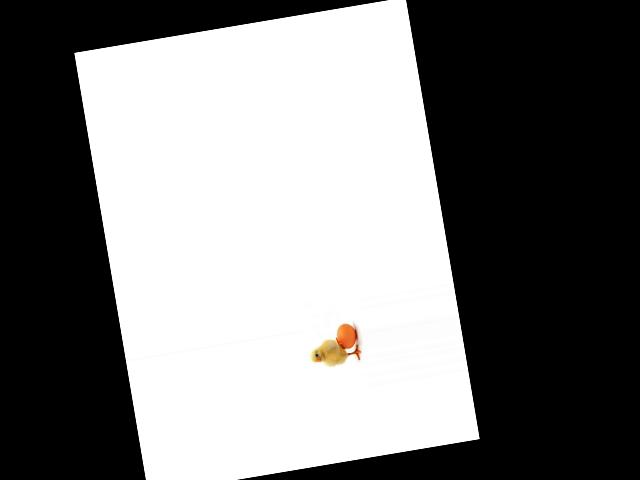egg: (334, 322, 358, 351)
